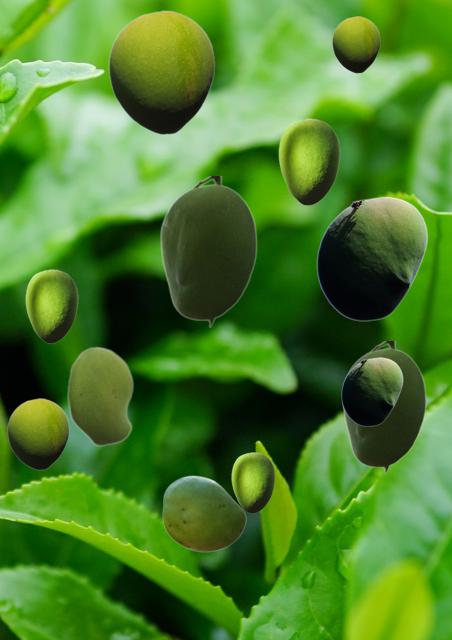green_mango: (159, 176, 256, 327), (316, 196, 427, 320), (108, 10, 214, 134), (342, 341, 425, 473), (67, 346, 133, 446), (162, 475, 245, 551), (278, 118, 339, 204), (7, 398, 68, 469), (341, 357, 402, 425), (25, 269, 77, 342), (332, 16, 379, 72), (231, 452, 274, 512)
